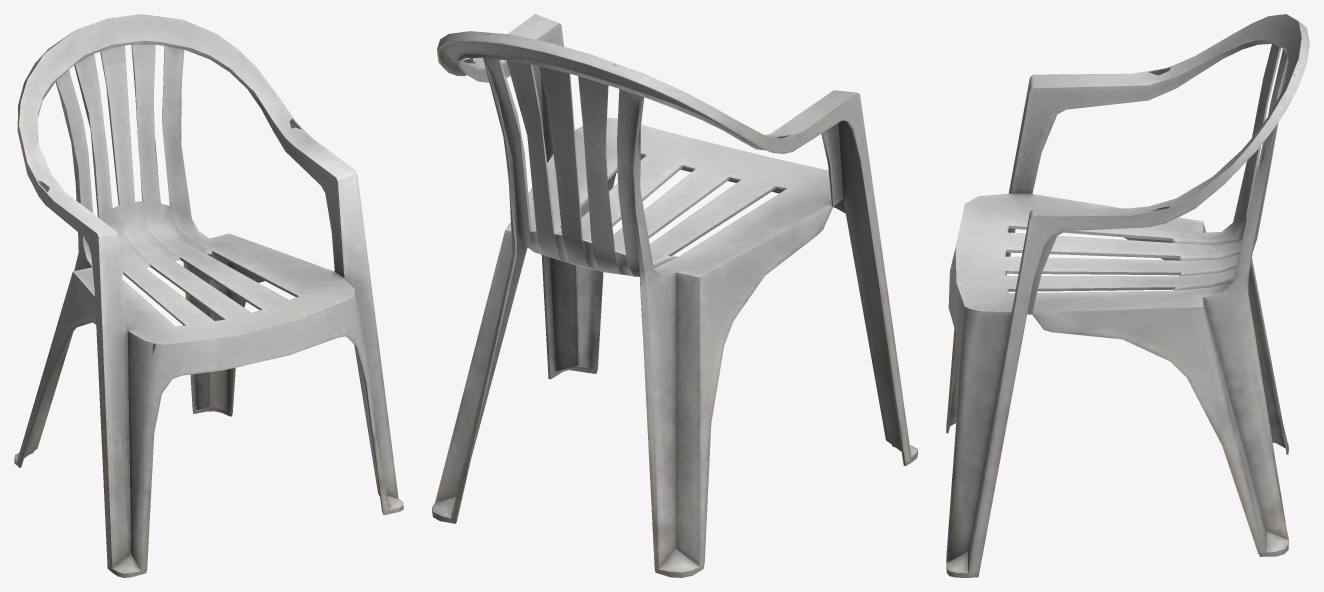
File: plastic_monobloc_chair_01.glb
3 renders of one model, left to right at view 1: azimuth 30°, elevation 25°; view 2: azimuth 150°, elevation 25°; view 3: azimuth 270°, elevation 25°, orthographic. The views are drawn at different scales.
Visible parts, largest first — view 1: plastic_monobloc_chair_01; view 2: plastic_monobloc_chair_01; view 3: plastic_monobloc_chair_01.
Part boxes in pixels (<box>): plastic_monobloc_chair_01: <box>14,14,403,577</box>; plastic_monobloc_chair_01: <box>432,14,917,577</box>; plastic_monobloc_chair_01: <box>946,14,1309,577</box>.
Size of the model in its own units: 0.6419 by 0.8798 by 0.6276.
1 material, 1 textured.
